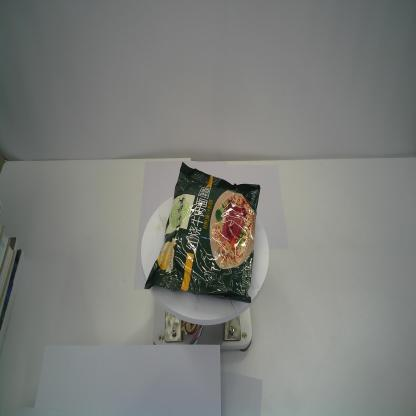Instant Noodles: (142, 160, 262, 304)
